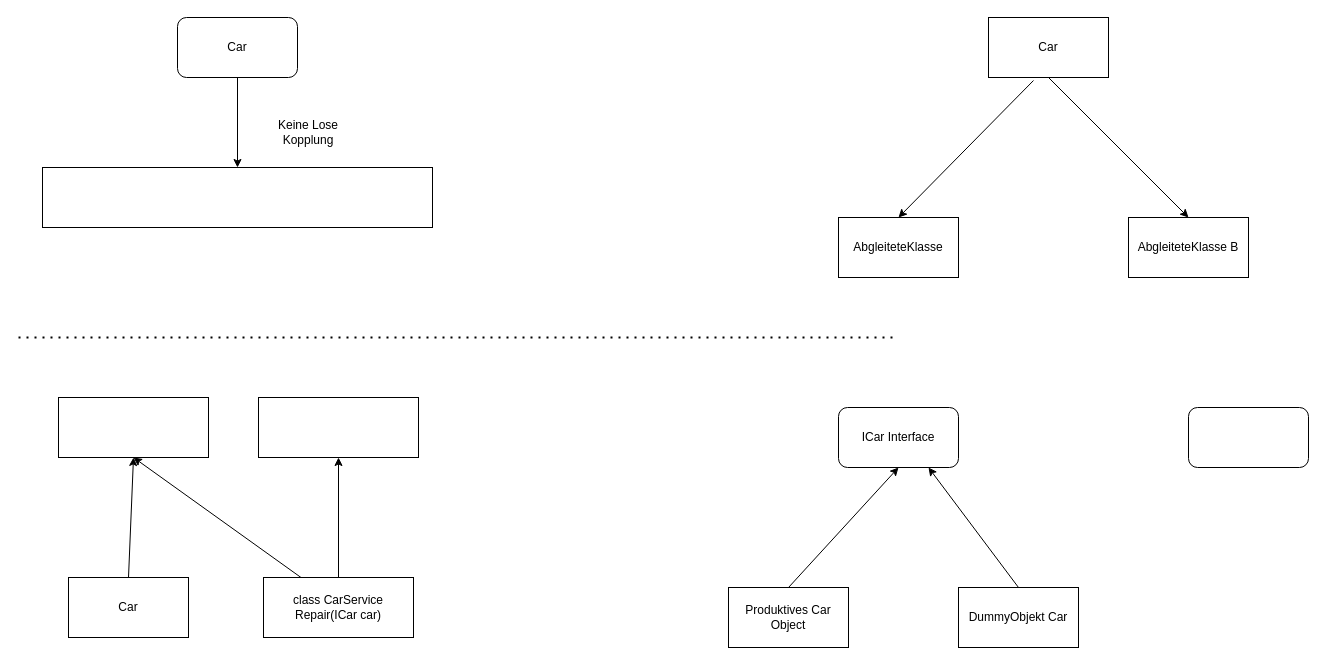
Some shapes in this 1326 by 665 pixel diagram are drawn without their labels. The box of each missing label's shape, as (x1, y1, x2, y2) in pixels:
CarService RepairCar(Car car);: (42, 166, 432, 228)
ICar: (58, 396, 208, 458)
ICarService Interface: (1188, 406, 1308, 468)
ICarService void Repair (ICar car);: (258, 396, 418, 458)
